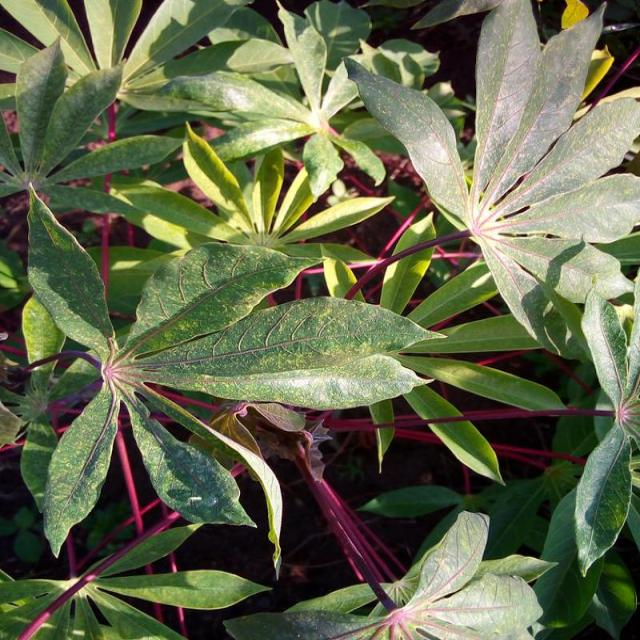cassava leaf: (22, 181, 446, 560), (342, 0, 638, 363)
